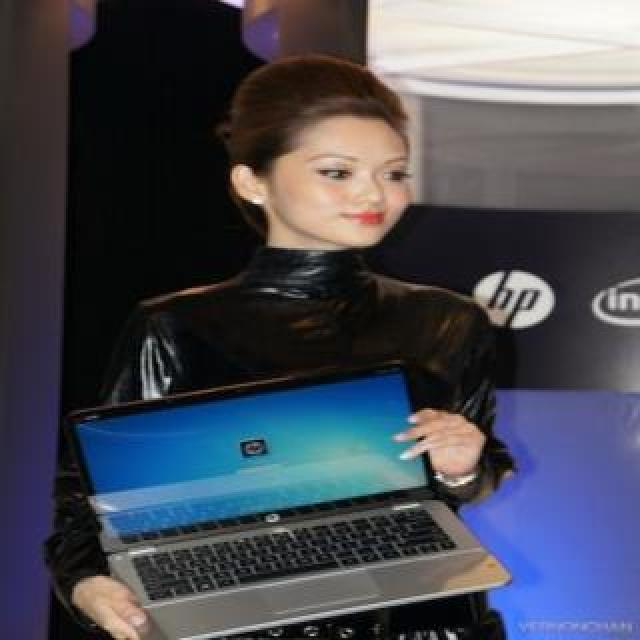laptop_computer: (60, 352, 500, 640)
